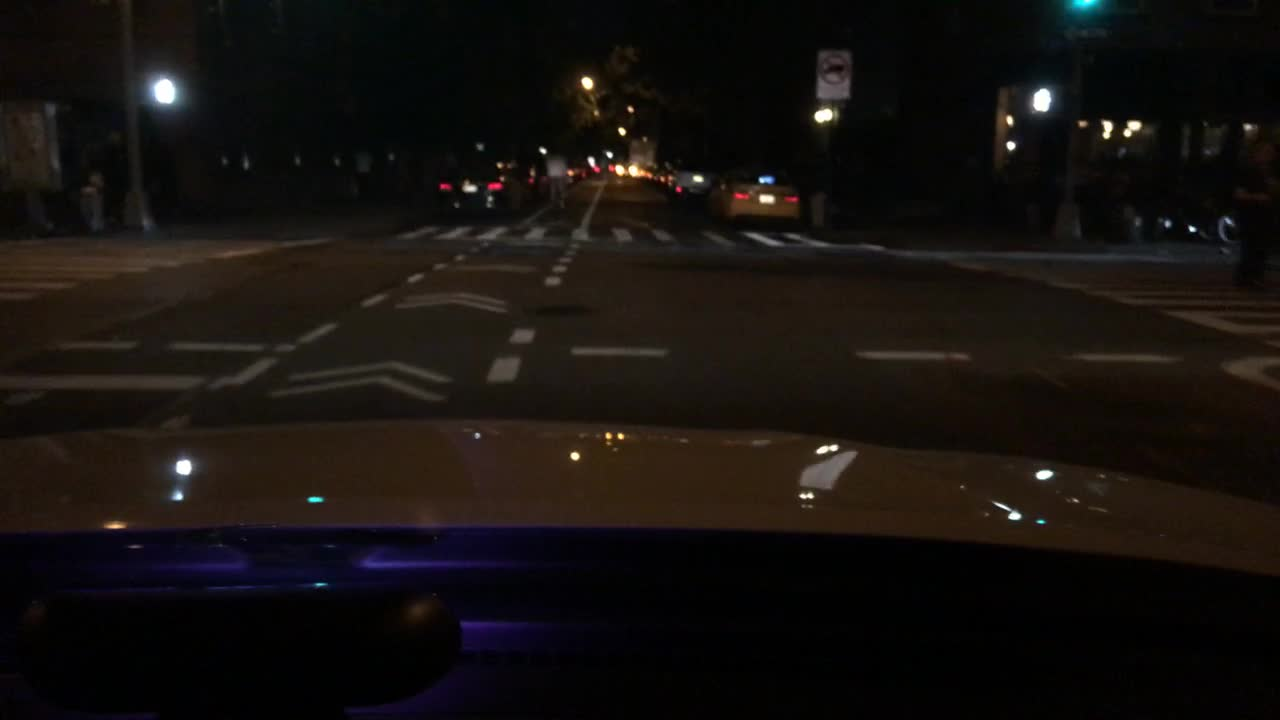bike: (545, 179, 574, 215)
car: (426, 152, 541, 220), (707, 162, 802, 230), (668, 163, 712, 199), (613, 158, 636, 175), (650, 167, 670, 186), (641, 162, 656, 179)
rider: (545, 144, 570, 201)
traffic light: (1026, 87, 1053, 116), (150, 76, 175, 105), (1070, 0, 1098, 11)
traffic sign: (815, 46, 853, 99), (1058, 27, 1116, 43)
